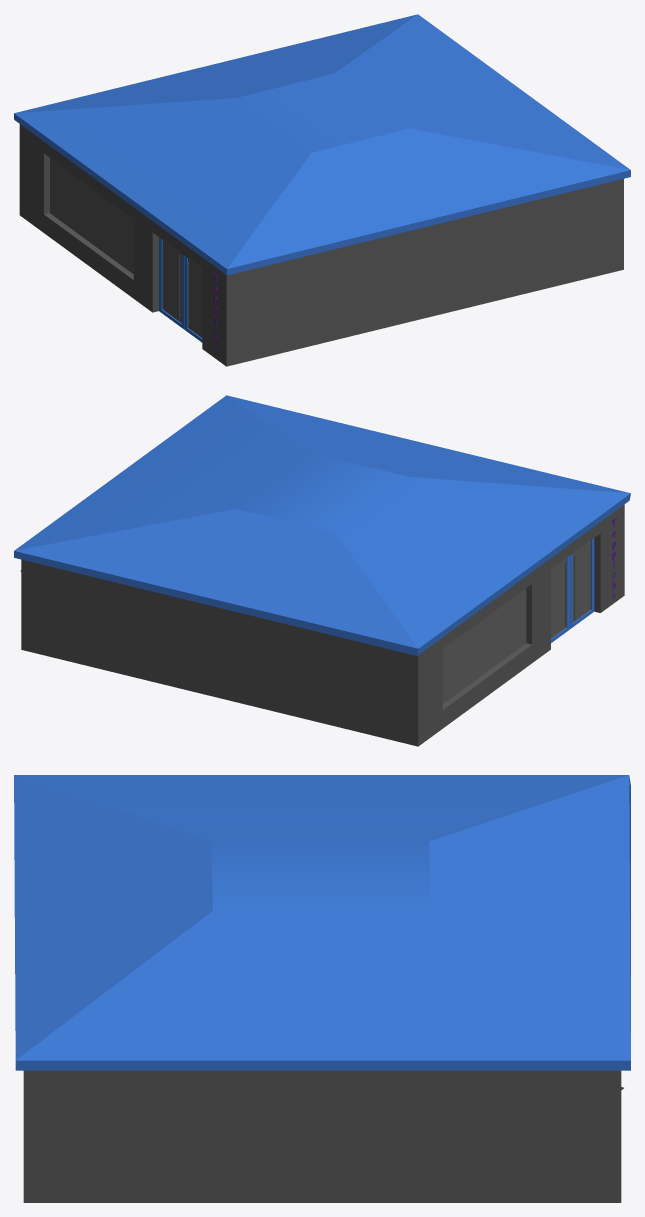
The model's file is teppichladen1.DAE.
3 views of the same model, one above another, from view 1: azimuth 30°, elevation 25°; view 2: azimuth 150°, elevation 25°; view 3: azimuth 270°, elevation 25° (orthographic). The views are drawn at different scales.
Visible parts, largest first — view 1: roof, house, window2, pasted__doorInset, pasted__pasted__doorInset, pasted__door1; view 2: roof, house, window2, pasted__pasted__doorInset, pasted__doorInset, pasted__pasted__door1; view 3: roof, house.
Boxes of the visible parts, x1,y1,x2,y2 form: roof: (14, 14, 630, 275); house: (19, 124, 623, 366); window2: (50, 158, 133, 273); pasted__doorInset: (162, 240, 181, 322); pasted__pasted__doorInset: (188, 259, 202, 337); pasted__door1: (159, 237, 184, 329); roof: (14, 395, 630, 655); house: (20, 504, 624, 746); window2: (442, 588, 526, 703); pasted__pasted__doorInset: (572, 541, 590, 622); pasted__doorInset: (551, 559, 566, 638); pasted__pasted__door1: (570, 538, 594, 628); roof: (14, 775, 630, 1070); house: (23, 1070, 623, 1202).
Size of the model in its own units: 505 by 155 by 462.
